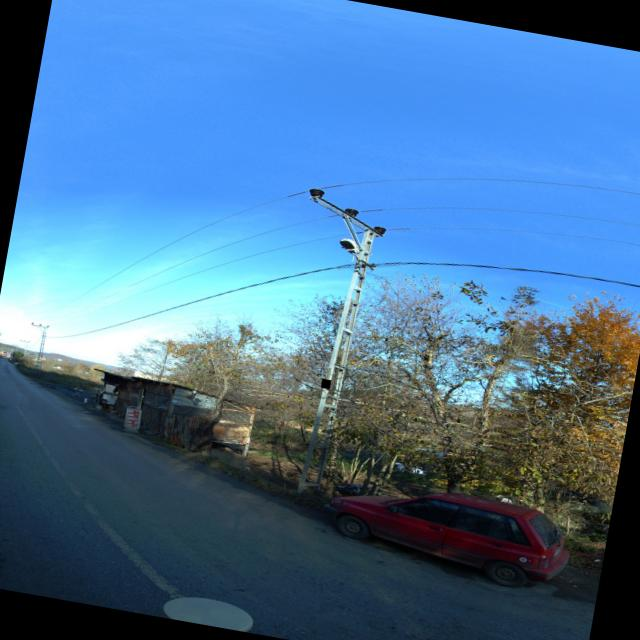Utility Pole Information Plate: (320, 378, 331, 389)
